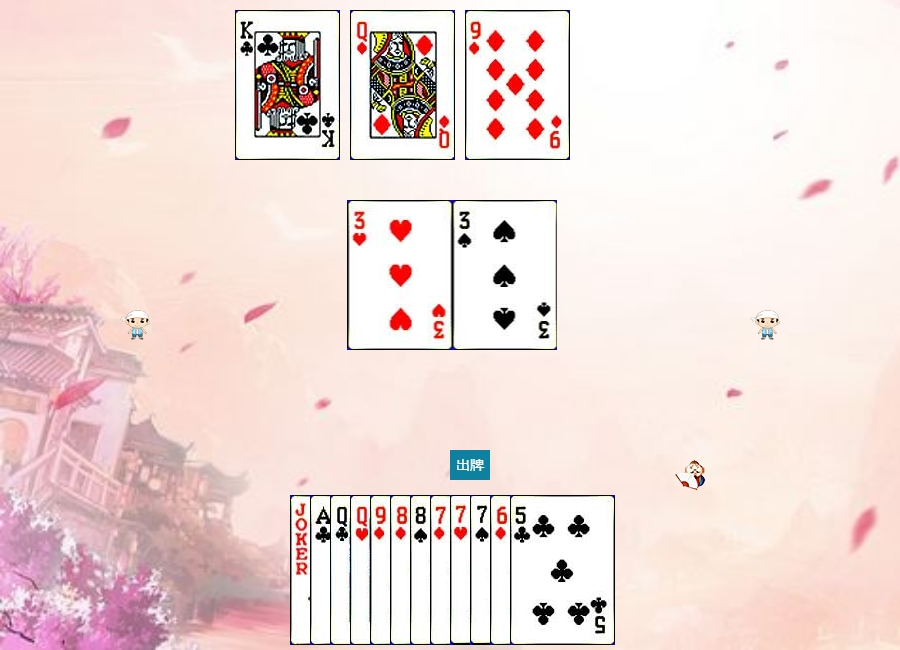12~1: (350, 10, 455, 160)
12~2: (330, 495, 435, 645)
12~3: (350, 495, 455, 645)
13~2: (235, 10, 340, 160)
14~2: (310, 495, 415, 645)
18~4: (290, 495, 395, 645)
3~3: (348, 200, 453, 350)
3~4: (453, 200, 558, 350)
5~2: (510, 495, 615, 645)
6~1: (490, 495, 595, 645)
7~1: (430, 495, 535, 645)
7~3: (450, 495, 555, 645)
7~4: (470, 495, 575, 645)
8~1: (390, 495, 495, 645)
8~4: (410, 495, 515, 645)
9~1: (465, 10, 570, 160), (370, 495, 475, 645)
